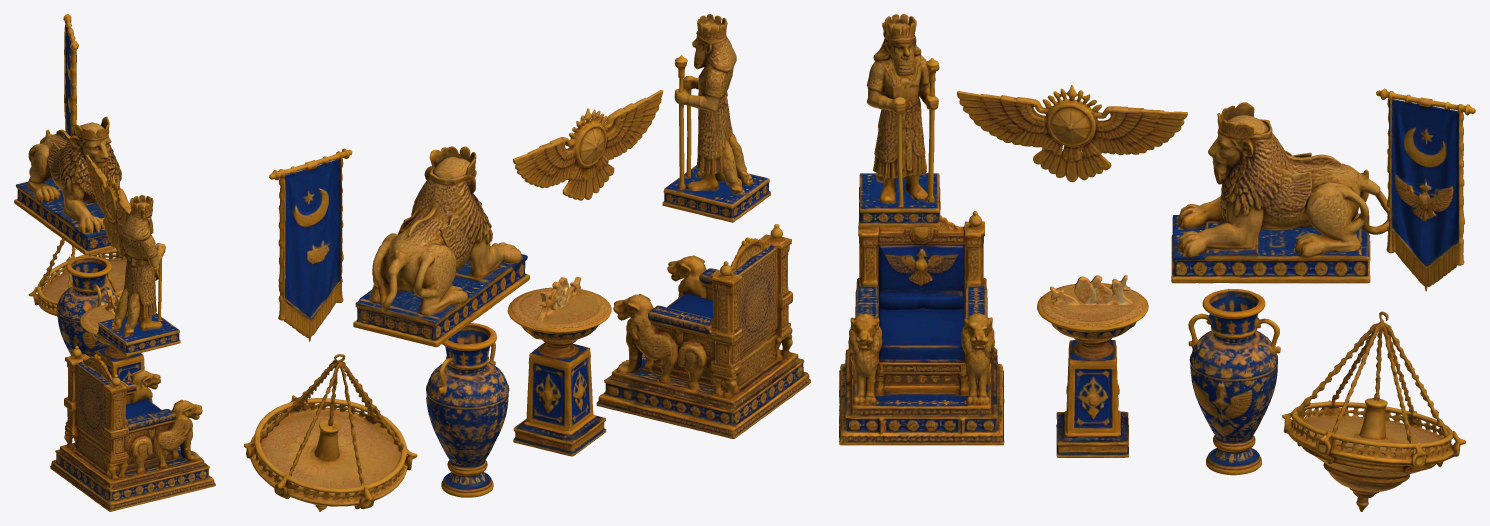
The model's file is اثاث الخزانة 2.glb.
3 renders of one model, left to right at view 1: azimuth 30°, elevation 25°; view 2: azimuth 150°, elevation 25°; view 3: azimuth 270°, elevation 25°, orthographic. The views are drawn at different scales.
Visible parts, largest first — view 1: world; view 2: world; view 3: world.
Boxes of the visible parts, x1=… form: world: x1=14, y1=14, x2=215, y2=511; world: x1=244, y1=14, x2=810, y2=511; world: x1=839, y1=14, x2=1475, y2=511.
Size of the model in its own units: 0.5813 by 0.7013 by 1.
1 material, 1 textured.
